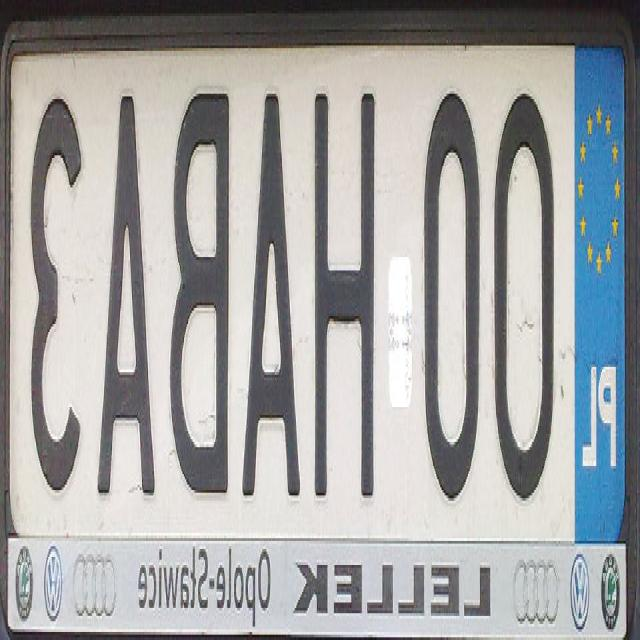pl_license_plate: (11, 46, 626, 530)
